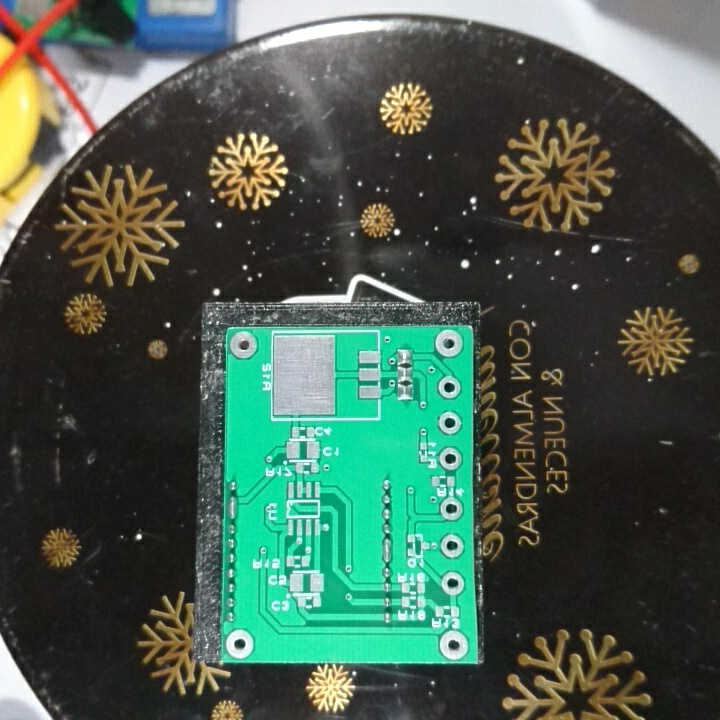F: (224, 626, 258, 659), (438, 626, 470, 660), (229, 329, 260, 360), (433, 327, 464, 358), (439, 568, 467, 598), (436, 409, 464, 438), (439, 531, 466, 560), (439, 494, 465, 523), (438, 444, 464, 472), (436, 375, 462, 401)
P: (379, 536, 397, 566), (224, 493, 241, 522)
